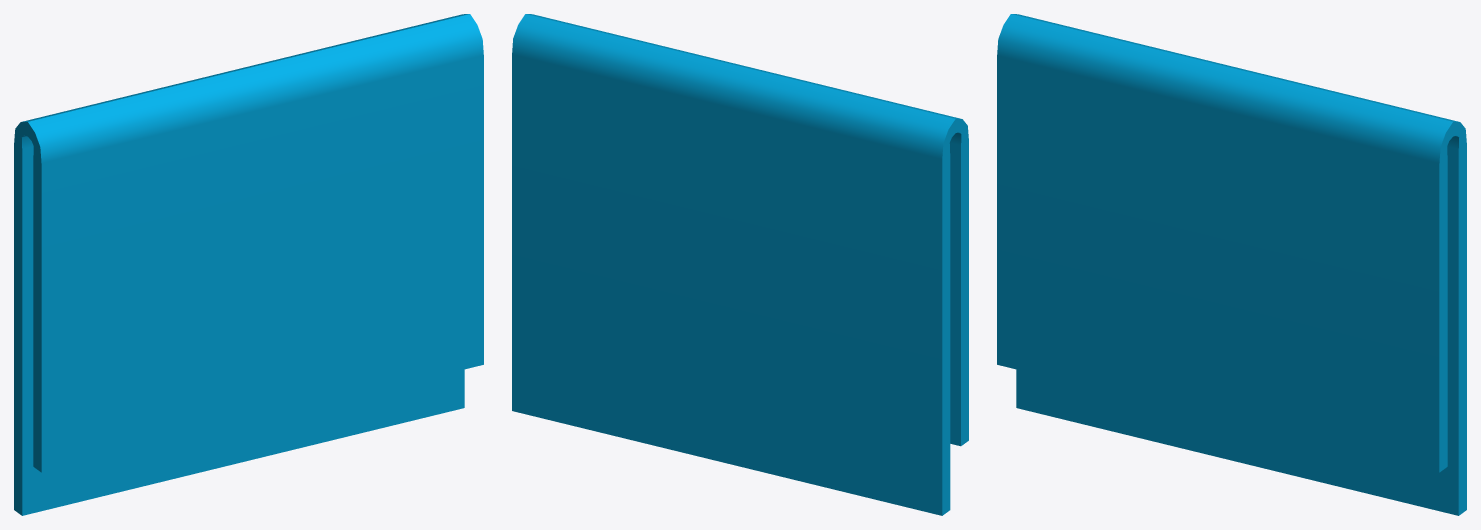
The model's file is Bath_towel_01_Lod0.fbx.
3 renders of one model, left to right at view 1: azimuth 30°, elevation 25°; view 2: azimuth 150°, elevation 25°; view 3: azimuth 330°, elevation 25°, orthographic. The views are drawn at different scales.
Visible parts, largest first — view 1: Bath_towel_01_Lod0; view 2: Bath_towel_01_Lod0; view 3: Bath_towel_01_Lod0.
Boxes of the visible parts, left/top/right/bottom form: Bath_towel_01_Lod0: left=14, top=14, right=483, bottom=515; Bath_towel_01_Lod0: left=512, top=14, right=968, bottom=515; Bath_towel_01_Lod0: left=997, top=14, right=1466, bottom=515.
Size of the model in its own units: 54.59 by 46.95 by 5.86.
